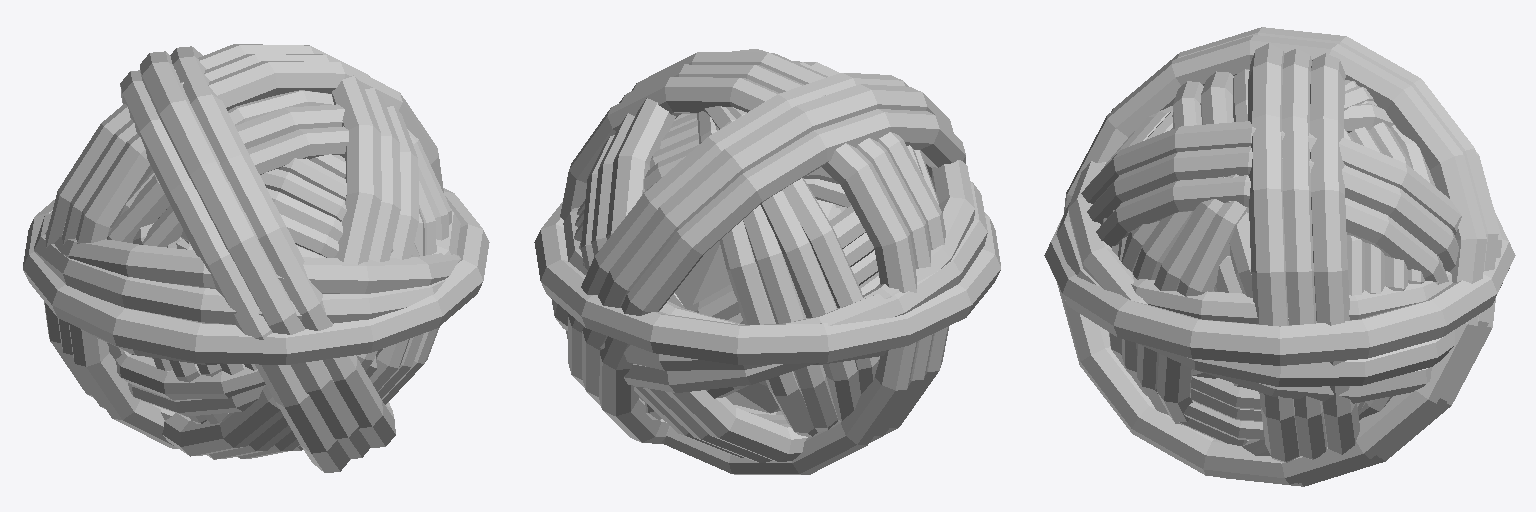
Rendered from ballNewTest.obj.
The picture shows the model from 3 angles: view 1: azimuth 30°, elevation 25°; view 2: azimuth 150°, elevation 25°; view 3: azimuth 270°, elevation 25°; orthographic projection.
Visible parts, largest first — view 1: pTorus238; view 2: pTorus238; view 3: pTorus238.
Part boxes in pixels (left/top/right/bottom): pTorus238: left=23, top=44, right=489, bottom=472; pTorus238: left=534, top=49, right=1000, bottom=474; pTorus238: left=1044, top=27, right=1515, bottom=486.
Size of the model in its own units: 1.1 by 1.02 by 1.1.